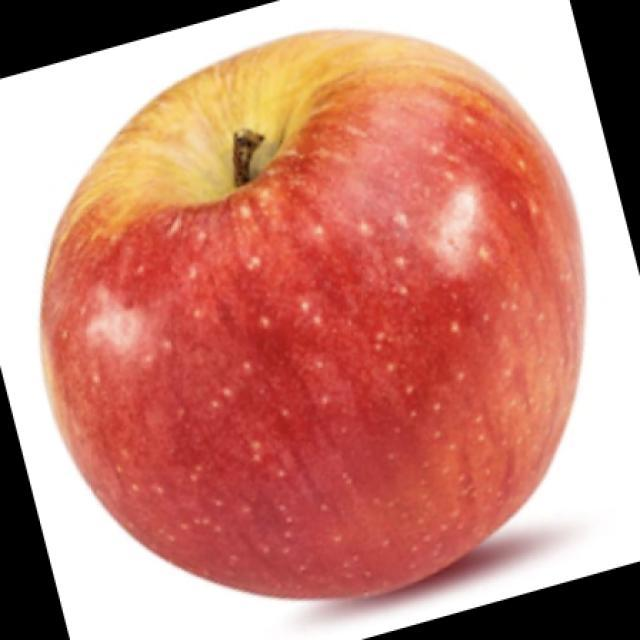Fresh Apple: (33, 31, 587, 599)
